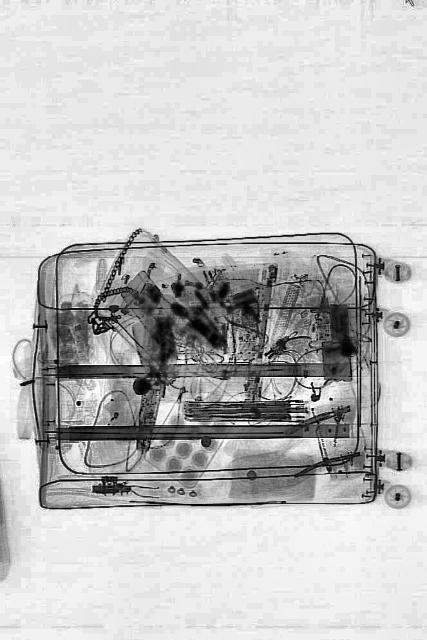Pliers: (222, 286, 271, 354)
